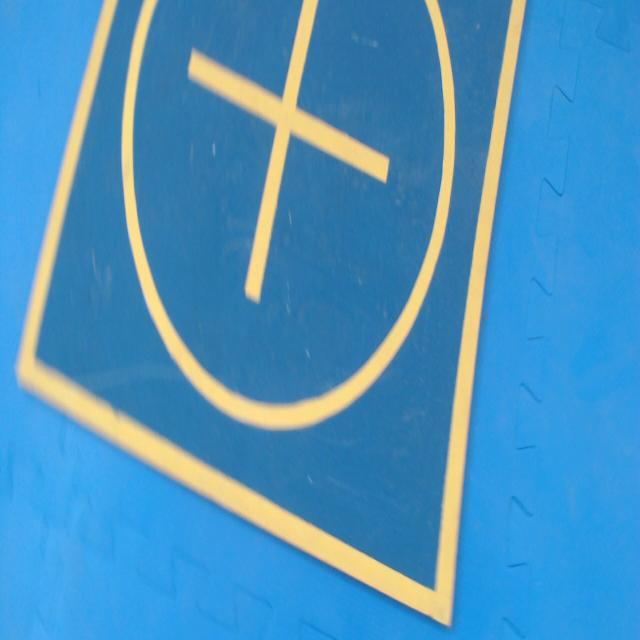base_pouso: (13, 0, 529, 628)
